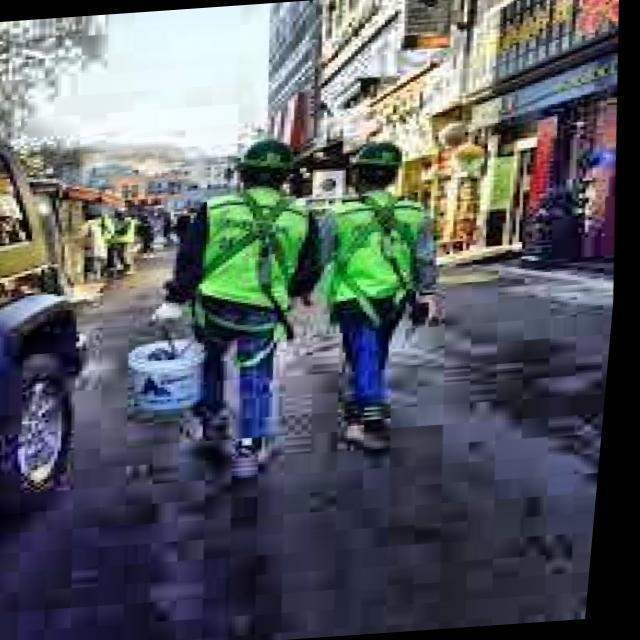Arnes_seguridad: (332, 185, 427, 319), (203, 182, 302, 306)
